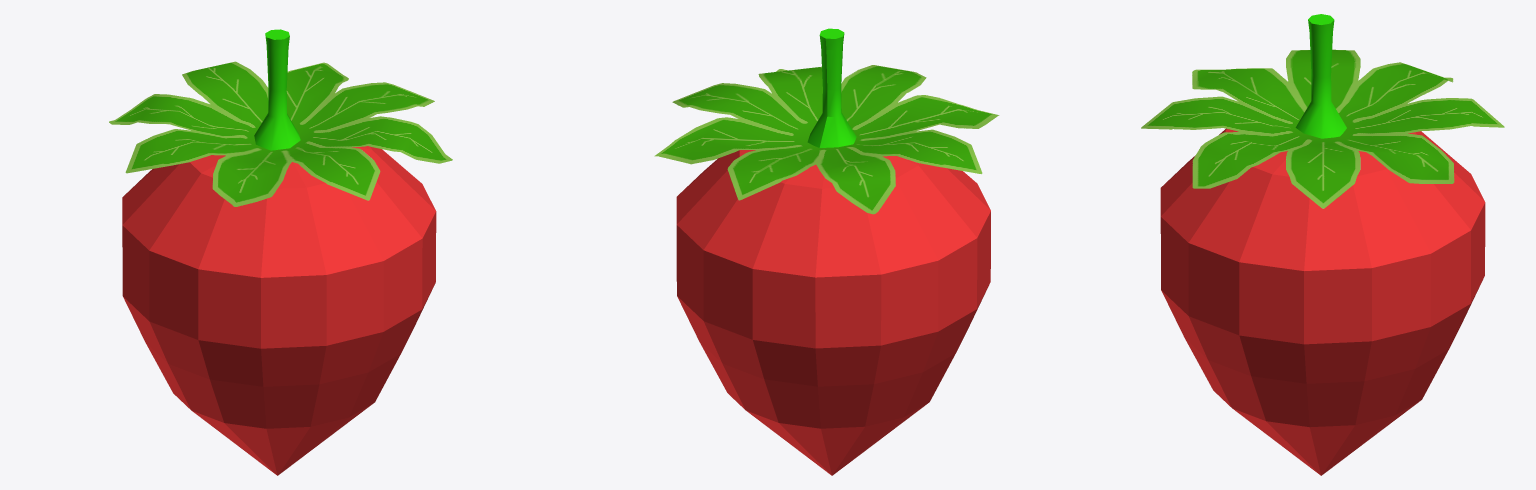
File: cilek.fbx
3 renders of one model, left to right at view 1: azimuth 30°, elevation 25°; view 2: azimuth 150°, elevation 25°; view 3: azimuth 270°, elevation 25°, orthographic. The views are drawn at different scales.
Parts seen in each view (by area): view 1: Sphere01, Plane01, Cylinder01; view 2: Sphere01, Plane01, Cylinder01; view 3: Sphere01, Plane01, Cylinder01.
Part boxes in pixels (x1,y1,x2,y2): Sphere01: (122,146,436,475); Plane01: (109,61,452,206); Cylinder01: (254,29,300,150); Sphere01: (676,150,990,475); Plane01: (654,65,999,214); Cylinder01: (807,28,856,147); Sphere01: (1160,128,1485,475); Plane01: (1141,49,1504,208); Cylinder01: (1295,14,1346,138).
Size of the model in its own units: 50.8 by 64.26 by 50.8.
Materials: 3 (1 with a texture image).
